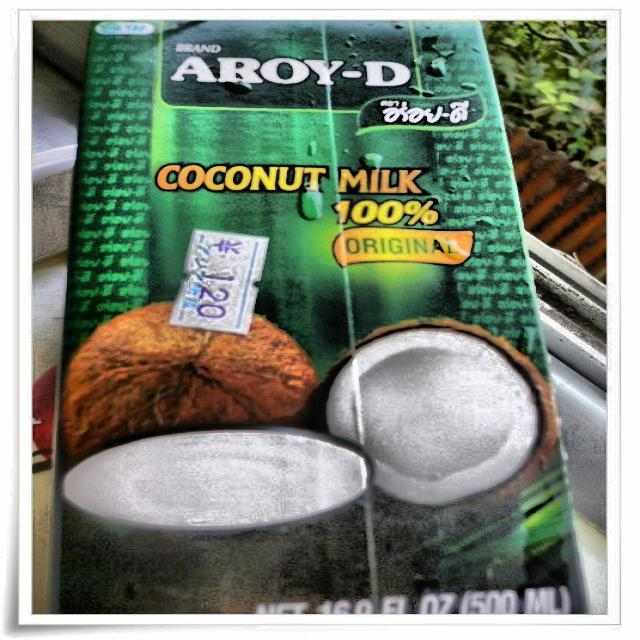cardboard: (45, 19, 591, 615)
